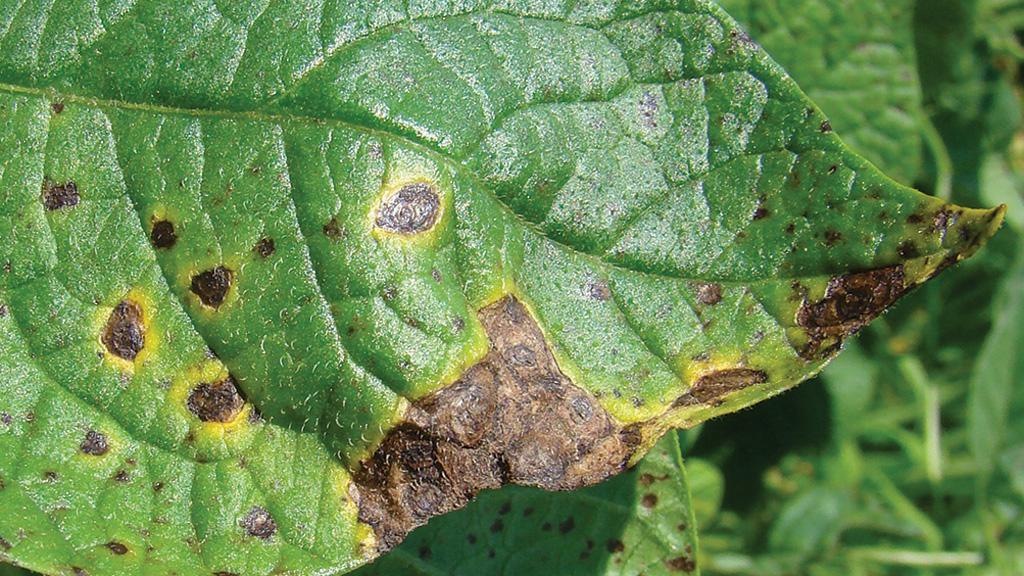Potato leaf late blight: (8, 1, 1005, 576)
